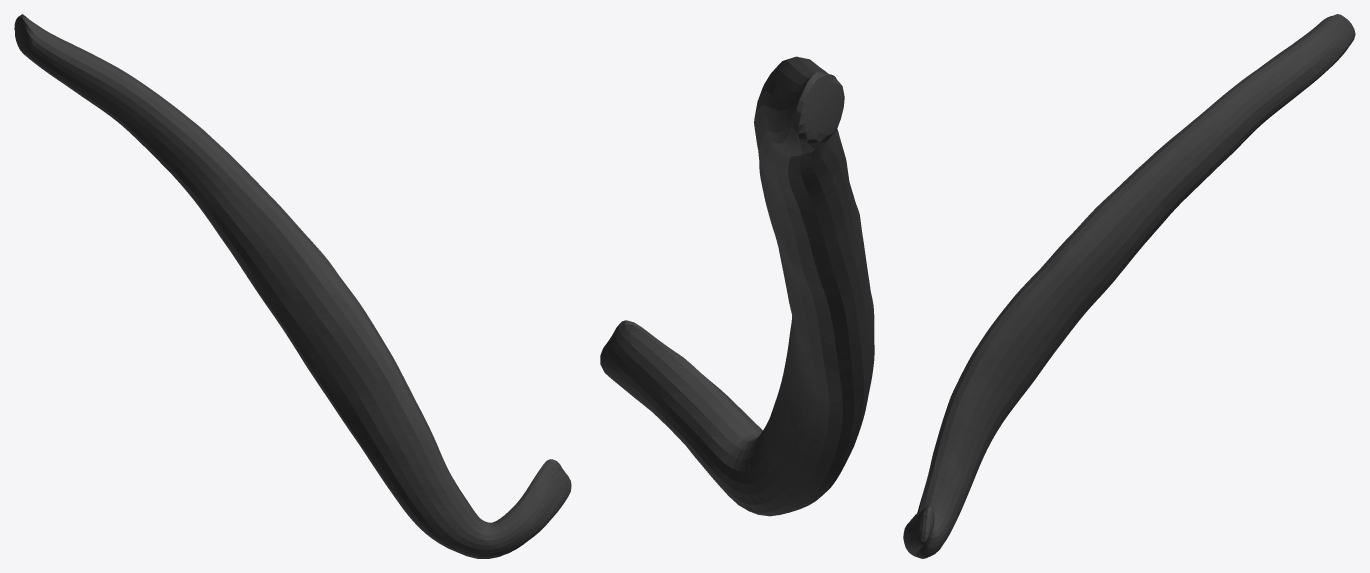
File: Obliq_dors.glb
3 views of the same model, side by side, from view 1: azimuth 30°, elevation 25°; view 2: azimuth 150°, elevation 25°; view 3: azimuth 270°, elevation 25° (orthographic). The views are drawn at different scales.
Parts seen in each view (by area): view 1: Obliq_dors; view 2: Obliq_dors; view 3: Obliq_dors.
Part boxes in pixels (x1,y1,x2,y2): Obliq_dors: [14, 14, 571, 558]; Obliq_dors: [600, 56, 874, 516]; Obliq_dors: [903, 14, 1355, 558].
Size of the model in its own units: 0.0166 by 0.0211 by 0.0204.
1 material, 1 textured.
